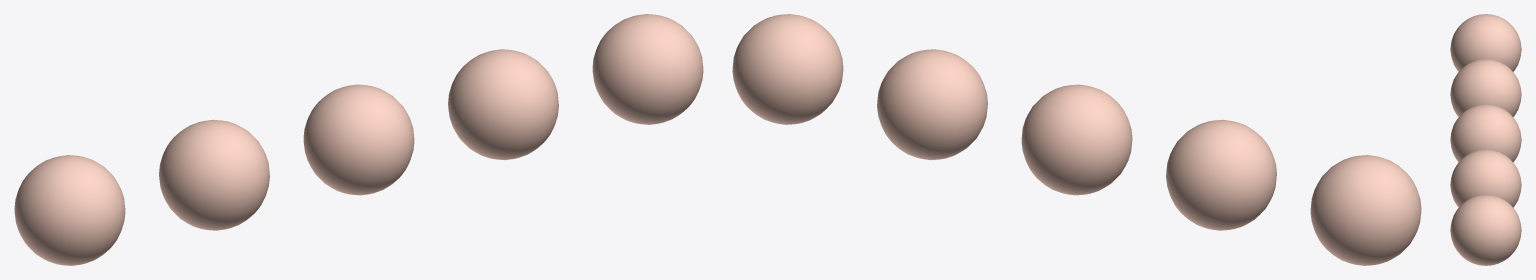
File: copper.gltf
The picture shows the model from 3 angles, left to right: view 1: azimuth 30°, elevation 25°; view 2: azimuth 150°, elevation 25°; view 3: azimuth 270°, elevation 25°; orthographic projection. The views are drawn at different scales.
Visible parts, largest first — view 1: r-1, r-0, r-0 (2), r-0 (3), r-0 (1); view 2: r-0, r-0 (2), r-1, r-0 (3), r-0 (1); view 3: r-1, r-0 (2), r-0, r-0 (1), r-0 (3).
Boxes of the visible parts, <box> form: r-1: <box>592,14,703,124</box>; r-0: <box>14,155,125,265</box>; r-0 (2): <box>303,84,414,195</box>; r-0 (3): <box>448,49,558,160</box>; r-0 (1): <box>159,119,269,230</box>; r-0: <box>1310,155,1421,265</box>; r-0 (2): <box>1021,84,1132,195</box>; r-1: <box>732,14,843,124</box>; r-0 (3): <box>877,49,987,160</box>; r-0 (1): <box>1166,119,1276,230</box>; r-1: <box>1450,195,1521,265</box>; r-0 (2): <box>1450,104,1521,162</box>; r-0: <box>1450,14,1521,71</box>; r-0 (1): <box>1450,59,1521,116</box>; r-0 (3): <box>1450,149,1521,207</box>.
Bounding box in the file's own units: 7 × 1 × 1.
